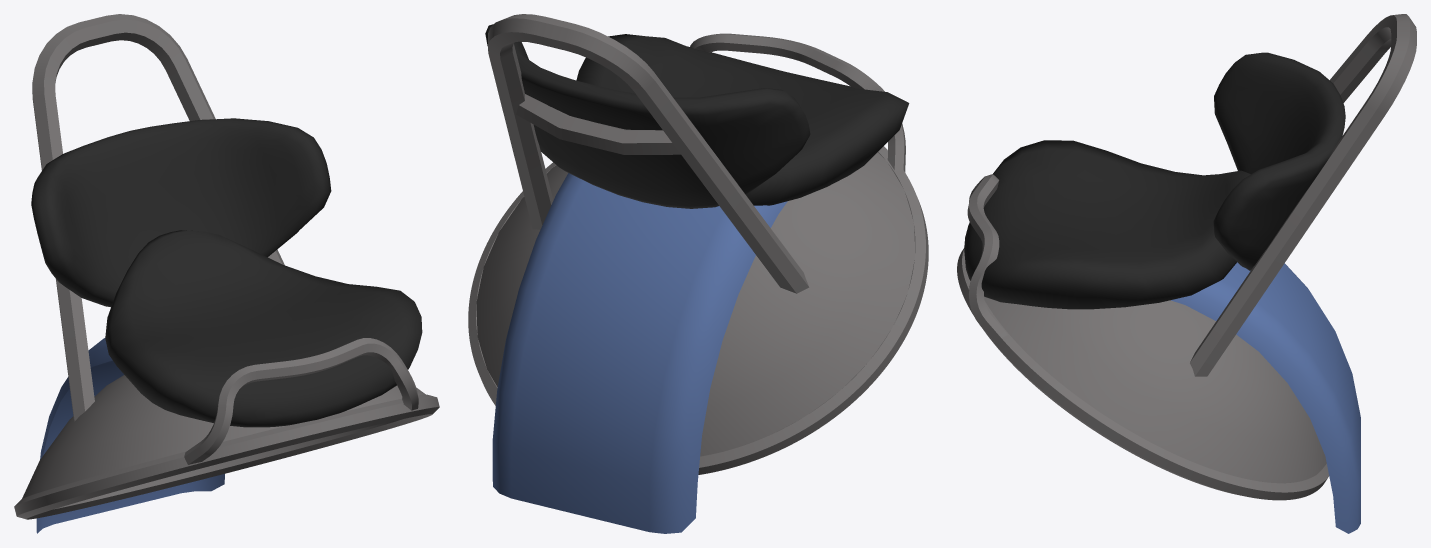
The model's file is Character_Seat.FBX.
The picture shows the model from 3 angles, left to right: view 1: azimuth 30°, elevation 25°; view 2: azimuth 150°, elevation 25°; view 3: azimuth 270°, elevation 25°; orthographic projection. The views are drawn at different scales.
Parts seen in each view (by area): view 1: TREX_Vehicle, TREX_SplashGuard; view 2: TREX_Vehicle, TREX_SplashGuard; view 3: TREX_Vehicle, TREX_SplashGuard.
Boxes of the visible parts, x1,y1,x2,y2 form: TREX_Vehicle: [14, 14, 439, 519]; TREX_SplashGuard: [36, 338, 224, 533]; TREX_Vehicle: [468, 14, 928, 474]; TREX_SplashGuard: [492, 173, 787, 533]; TREX_Vehicle: [957, 14, 1416, 500]; TREX_SplashGuard: [1171, 262, 1360, 533].
Size of the model in its own units: 92.5 by 98.84 by 110.
